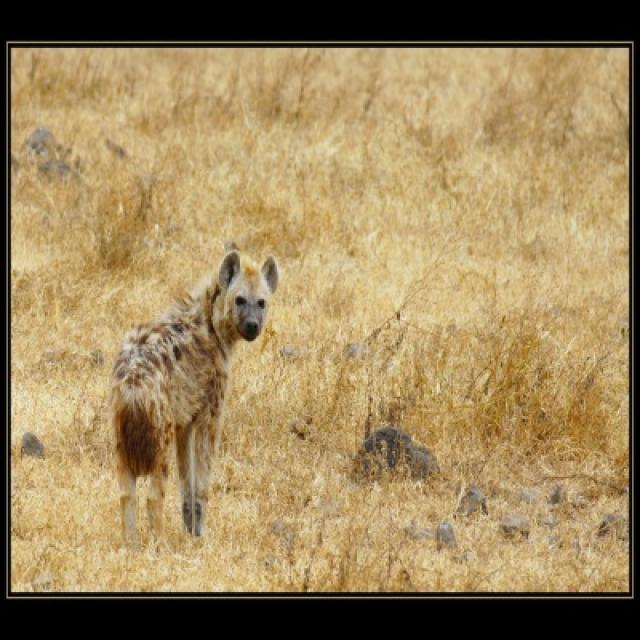hyena: (112, 243, 277, 544)
